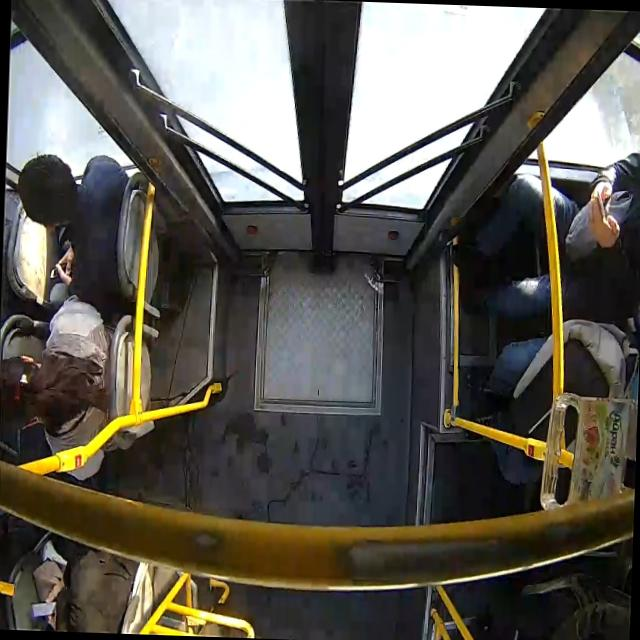bus-door: (13, 0, 640, 268)
